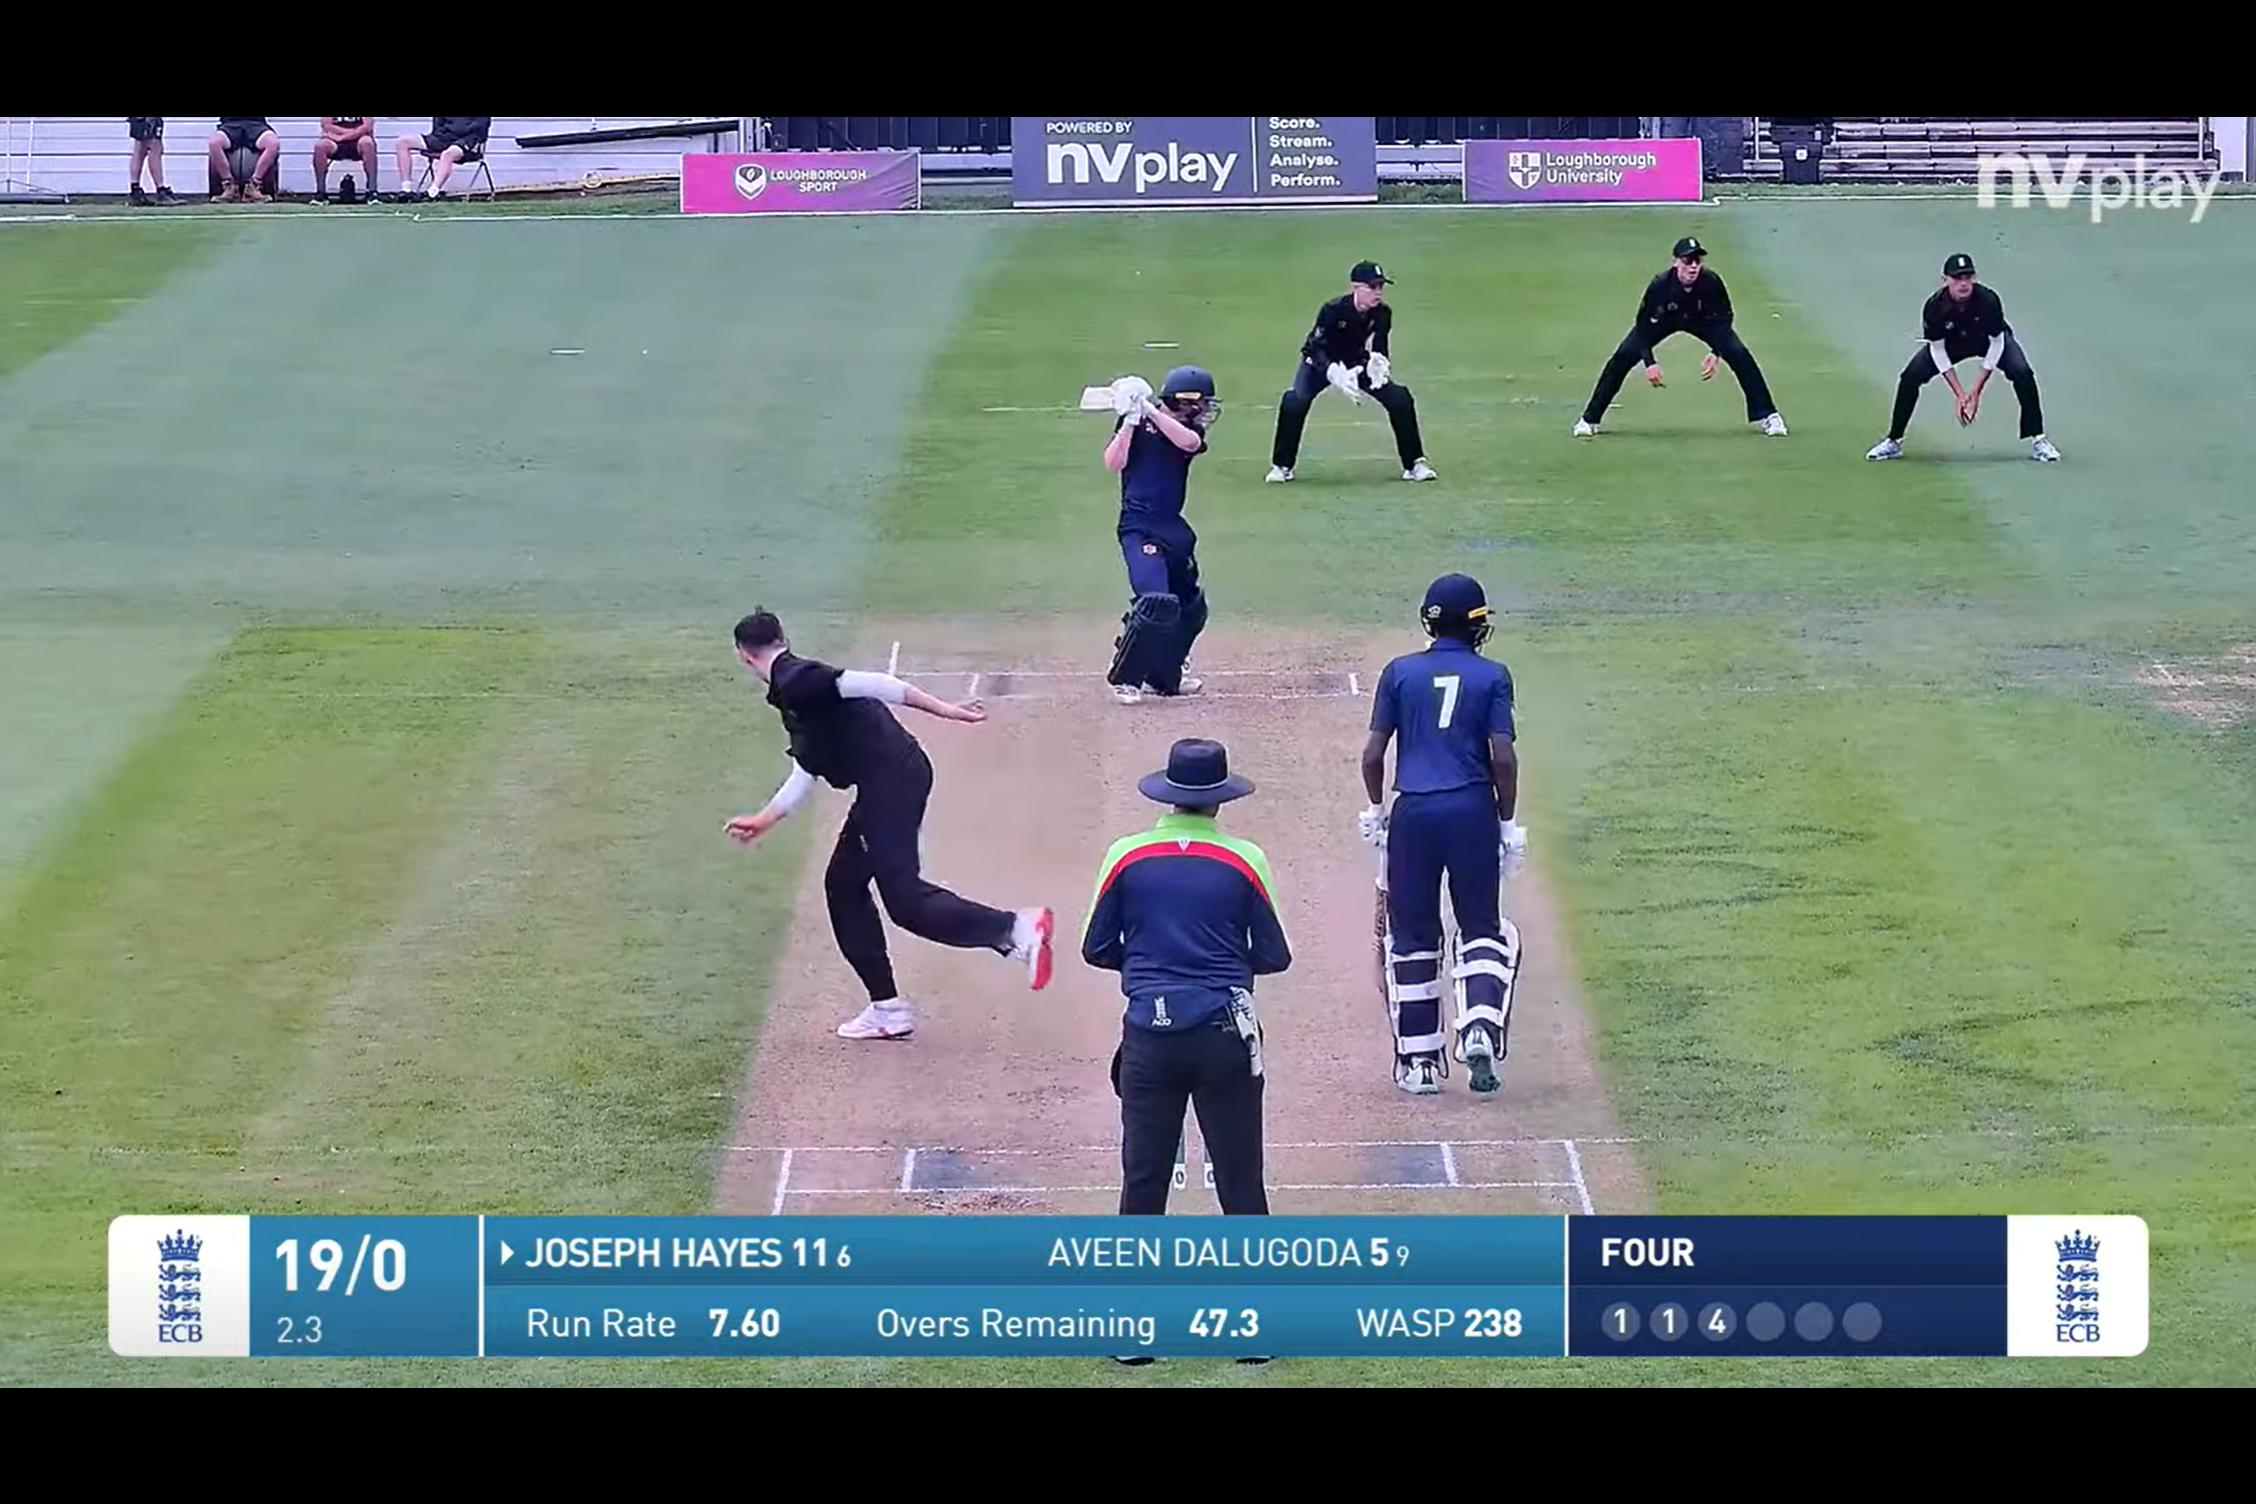batsman: (1021, 363, 1244, 698)
bowler running in: (626, 593, 999, 1118)
non striker: (1350, 540, 1546, 1140)
umpire: (1066, 734, 1314, 1193)
wicket keeper: (1266, 252, 1445, 493)
